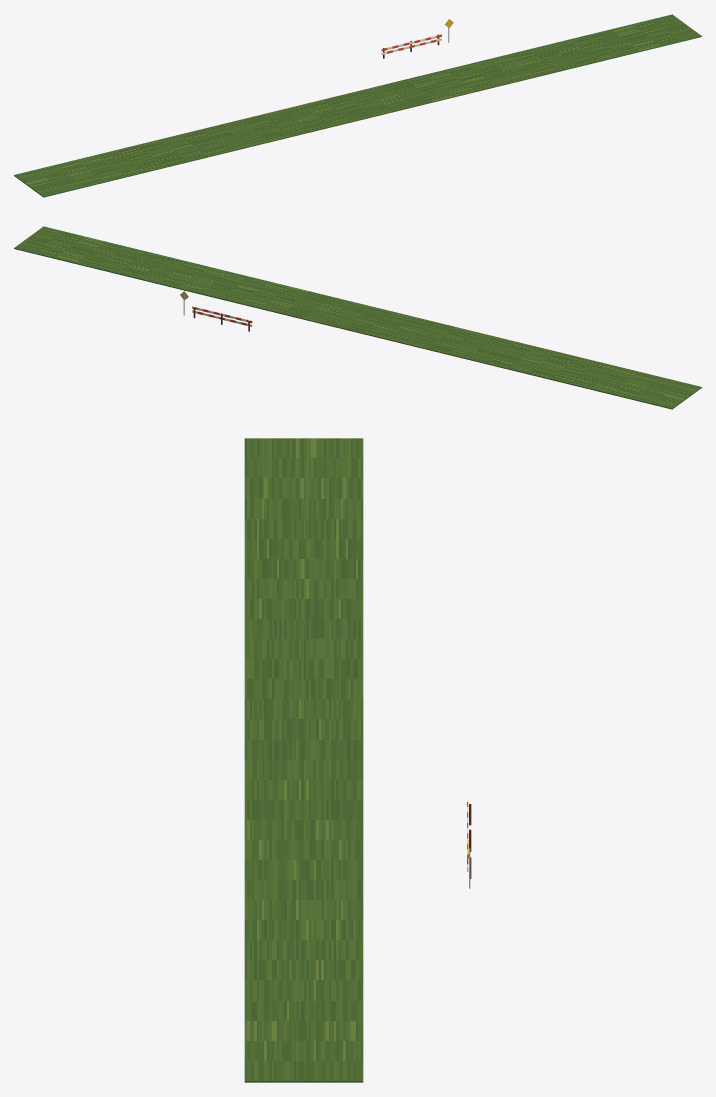
Rendered from structure.glb.
3 views of the same model, one above another, from view 1: azimuth 30°, elevation 25°; view 2: azimuth 150°, elevation 25°; view 3: azimuth 270°, elevation 25° (orthographic). The views are drawn at different scales.
Parts seen in each view (by area): view 1: Box1; view 2: Box1; view 3: Box1.
Part boxes in pixels (x1,y1,x2,y2): Box1: (14,14,701,197); Box1: (14,226,701,409); Box1: (244,438,363,1082).
Size of the model in its own units: 76.88 by 2.81 by 11.47.
Materials: 7 (1 with a texture image).
